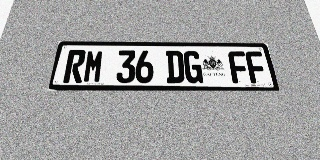3: (116, 50, 136, 83)
6: (135, 50, 153, 83)
D: (166, 51, 185, 83)
F: (245, 51, 269, 83), (228, 51, 250, 83)
G: (183, 51, 203, 83)
M: (82, 50, 105, 83)
R: (63, 50, 87, 83)
